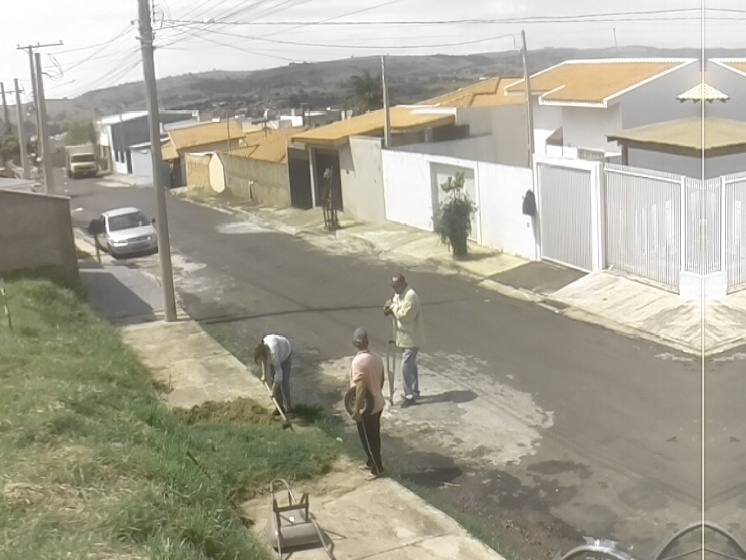person: (349, 325, 386, 483), (385, 273, 424, 408), (254, 332, 293, 418)
